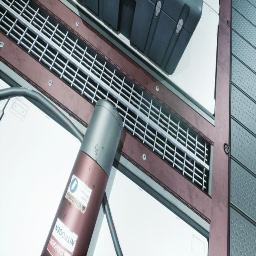NitrogenTank ,: (40, 98, 123, 256)
